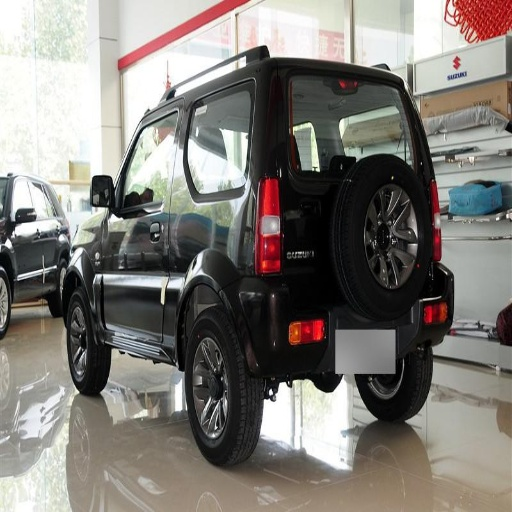back_left_door: (30, 179, 64, 288), (160, 122, 180, 245)
trunk: (309, 112, 387, 204)
